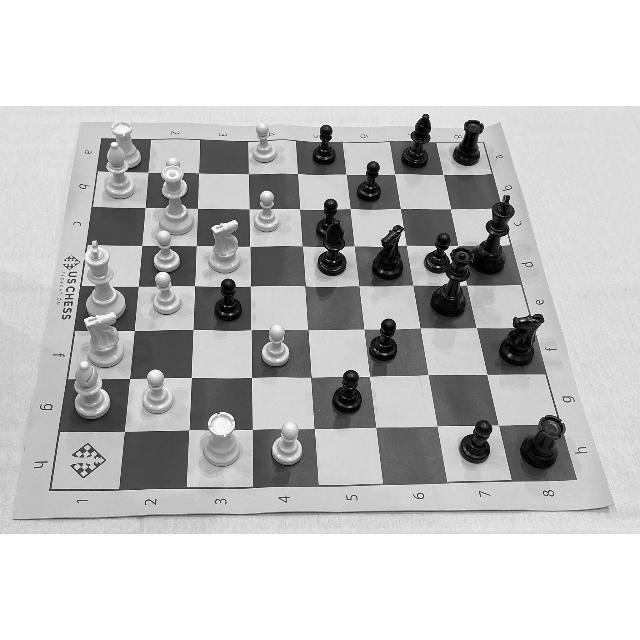chessboard: (49, 138, 575, 488)
